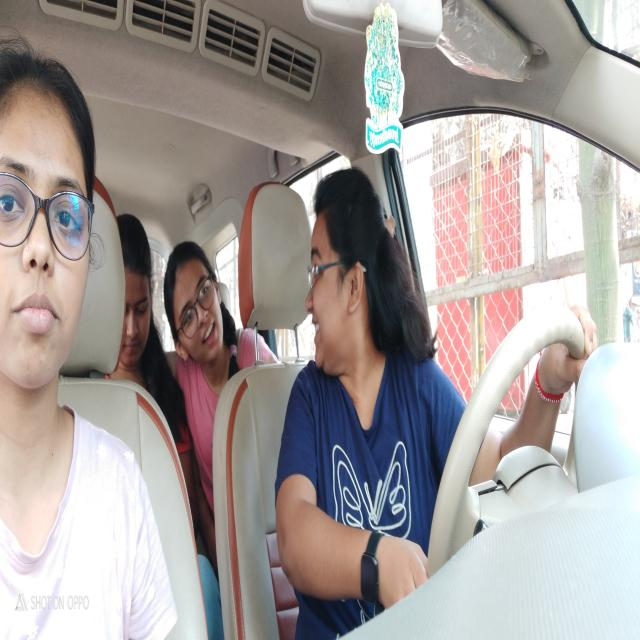LeftRight: (298, 192, 378, 364)
person: (0, 84, 93, 375), (164, 254, 229, 360), (125, 267, 155, 370)
talking: (306, 320, 324, 343)
